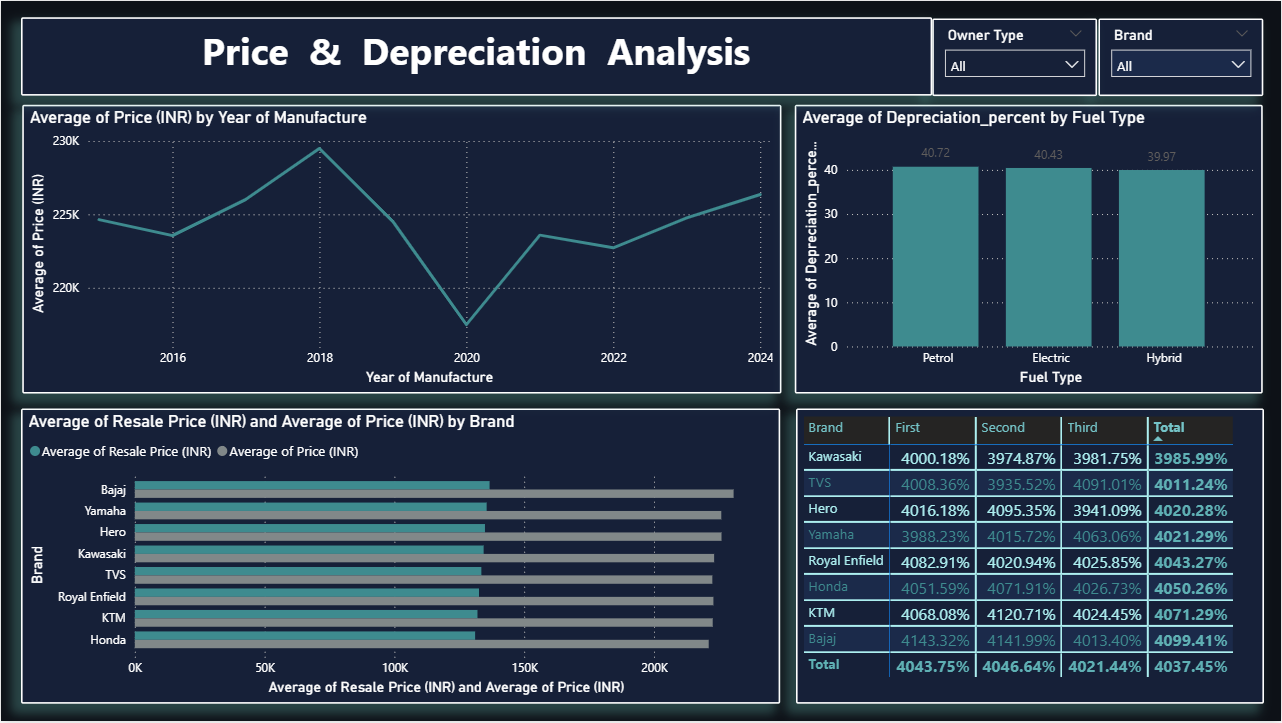

The dashboard page shown, as its layout file describes it:
{"tool":"powerbi","page":{"name":"Page 2","canvas":[1280,720],"ordinal":1},"visuals":[{"type":"clusteredBarChart","fields":{"Category":["cleaned_bike_sales.Brand"],"Y":["Avg(cleaned_bike_sales.Resale Price (INR))","Avg(cleaned_bike_sales.Price (INR))"]},"box":[20.6,407.5,758.8,295],"z":0},{"type":"lineChart","fields":{"Category":["cleaned_bike_sales.Year of Manufacture"],"Y":["Avg(cleaned_bike_sales.Price (INR))"]},"box":[20.8,104,759,288.5],"z":1000},{"type":"clusteredColumnChart","fields":{"Category":["cleaned_bike_sales.Fuel Type"],"Y":["Avg(cleaned_bike_sales.Depreciation_percent)"]},"box":[794.1,104,467.9,288.5],"z":2000},{"type":"pivotTable","fields":{"Rows":["cleaned_bike_sales.Brand"],"Columns":["cleaned_bike_sales.Owner Type"],"Values":["Avg(cleaned_bike_sales.Depreciation_percent)"]},"box":[794.5,407.5,467.9,295],"z":3000},{"type":"slicer","fields":{"Values":["cleaned_bike_sales.Brand"]},"box":[1096.9,16.9,165.1,78],"z":4000},{"type":"slicer","fields":{"Values":["cleaned_bike_sales.Owner Type"]},"box":[931.8,16.9,165.1,78],"z":5000},{"type":"textbox","box":[20.6,16.5,911.2,78.2],"z":6000}]}

Visuals, with their boxes in screenshot pixels (x1, y1, x2, y2), scaled from the page's 1280x720 canvas onto the 1282x723 screenshot:
clusteredBarChart - cleaned_bike_sales.Brand x Avg(cleaned_bike_sales.Resale Price (INR)): rect(21, 409, 781, 705)
lineChart - cleaned_bike_sales.Year of Manufacture x Avg(cleaned_bike_sales.Price (INR)): rect(21, 104, 781, 394)
clusteredColumnChart - cleaned_bike_sales.Fuel Type x Avg(cleaned_bike_sales.Depreciation_percent): rect(795, 104, 1264, 394)
pivotTable - cleaned_bike_sales.Brand x cleaned_bike_sales.Owner Type: rect(796, 409, 1264, 705)
slicer - cleaned_bike_sales.Brand: rect(1099, 17, 1264, 95)
slicer - cleaned_bike_sales.Owner Type: rect(933, 17, 1099, 95)
textbox: rect(21, 17, 933, 95)
